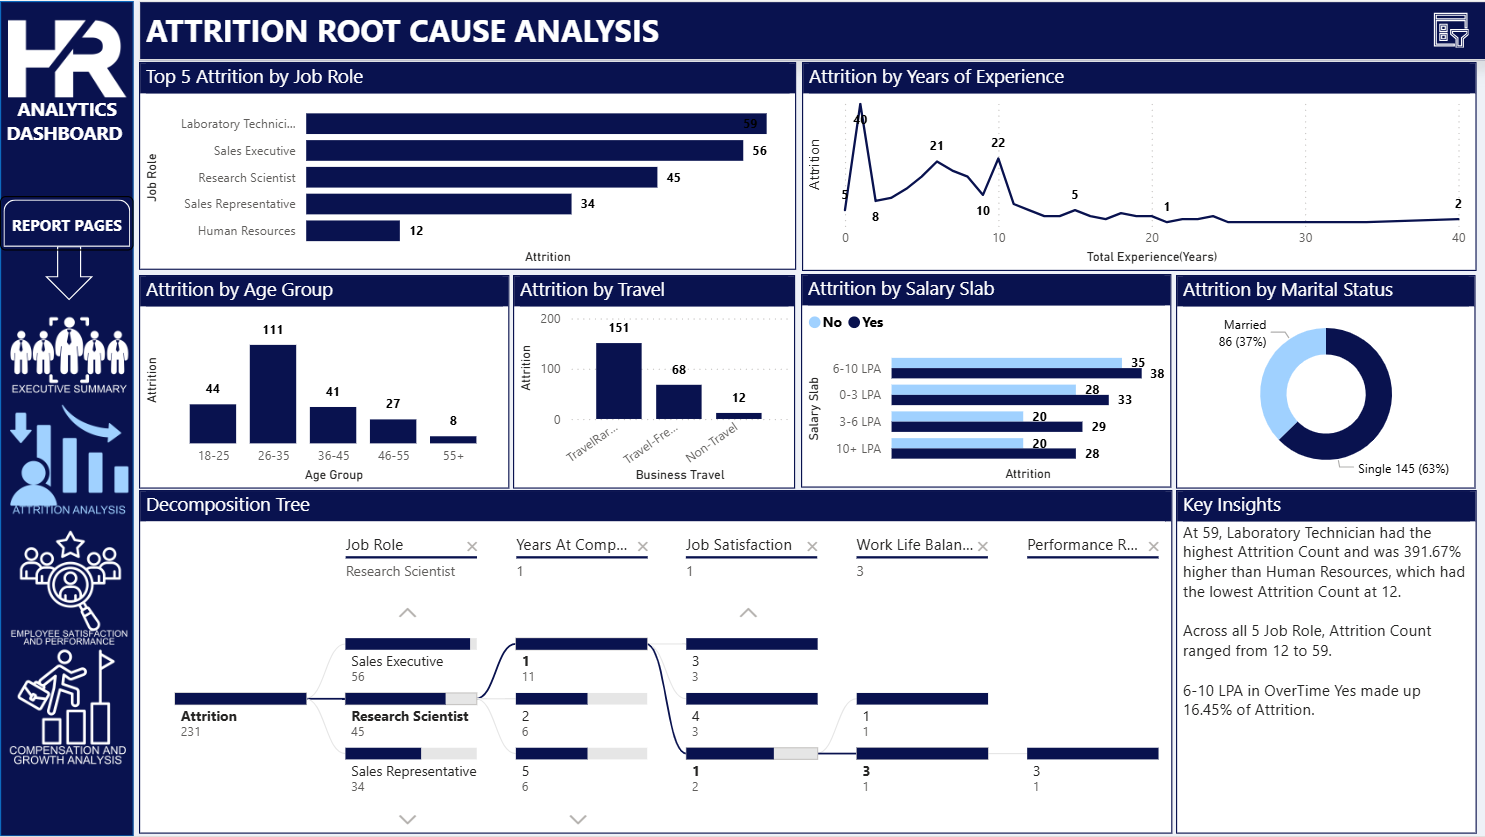

This screenshot's page, from the dashboard's own definition file:
{"tool":"powerbi","page":{"name":"Attrition Analysis","canvas":[1280,720],"ordinal":1},"visuals":[{"type":"group","id":"g1","title":"Page Navigation","box":[0,0,115.2,720.5],"z":0},{"type":"shape","box":[0,0,115.2,720.5],"z":0,"group":"g1"},{"type":"textbox","title":"AA Header","box":[119.4,0,1160.6,50.9],"z":1000},{"type":"actionButton","title":"Slicers button","box":[1230,5.5,41.8,39.1],"z":2000},{"type":"textbox","box":[0,76.8,115.2,58.1],"z":2000,"group":"g1"},{"type":"image","box":[7.3,553.3,102.8,111.1],"z":2125,"group":"g1"},{"type":"shape","box":[38.4,210.7,41.5,46.7],"z":2250,"group":"g1"},{"type":"image","box":[8.3,342.6,101.7,111.1],"z":2312,"group":"g1"},{"type":"image","box":[7.3,0,101.7,111.1],"z":2375,"group":"g1"},{"type":"image","box":[8.3,451.6,101.7,111.1],"z":2406,"group":"g1"},{"type":"image","box":[8.3,249.1,101.7,111.1],"z":2437,"group":"g1"},{"type":"shape","box":[0,168.2,115.2,46.7],"z":2500,"group":"g1"},{"type":"clusteredBarChart","title":"Top 5 Attrition by Job Role","fields":{"Category":["HR_Analytics.JobRole"],"Y":["Measure.Attrition Count"]},"box":[119.7,52.9,566.2,179.1],"z":3000},{"type":"clusteredColumnChart","title":"Attrition by Travel","fields":{"Category":["HR_Analytics.BusinessTravel"],"Y":["Measure.Attrition Count"]},"box":[442.2,235.7,242.9,184],"z":4000},{"type":"clusteredBarChart","title":"Attrition by Salary Slab","fields":{"Category":["HR_Analytics.SalarySlab"],"Y":["Measure.Attrition Count"],"Series":["HR_Analytics.OverTime"]},"box":[690.1,235.1,319,184],"z":5000},{"type":"lineChart","title":"Attrition by Years of Experience","fields":{"Category":["HR_Analytics.TotalExperience(Years)"],"Y":["Measure.Attrition"]},"box":[690.3,52.9,581.3,179.6],"z":6000},{"type":"clusteredColumnChart","fields":{"Category":["HR_Analytics.AgeGroup"],"Y":["Measure.Attrition Count"]},"box":[119.4,235.7,318.7,184],"z":7000},{"type":"donutChart","fields":{"Y":["Measure.Attrition Count"],"Category":["HR_Analytics.MaritalStatus"]},"box":[1013.2,235.7,258.5,184],"z":8000},{"type":"textbox","title":"Key Insights","box":[1013.2,421.2,258.7,296.5],"z":9000},{"type":"decompositionTreeVisual","title":"Decomposition Tree","fields":{"ExplainBy":["HR_Analytics.JobRole","HR_Analytics.YearsatCompany","HR_Analytics.JobSatisfaction","HR_Analytics.WorkLifeBalance","HR_Analytics.PerformanceRating"],"Analyze":["Measure.Attrition Count"]},"box":[119.4,421.4,889.7,295.9],"z":11000}]}

Visuals, with their boxes in screenshot pixels (x1, y1, x2, y2), scaled from the page's 1280x720 canvas onto the 1485x837 screenshot:
"Page Navigation" group: [x1=0, y1=0, x2=134, y2=836]
shape: [x1=0, y1=0, x2=134, y2=836]
"AA Header" textbox: [x1=139, y1=0, x2=1484, y2=59]
"Slicers button" actionButton: [x1=1427, y1=6, x2=1475, y2=52]
textbox: [x1=0, y1=89, x2=134, y2=157]
image: [x1=8, y1=643, x2=128, y2=772]
shape: [x1=45, y1=245, x2=93, y2=299]
image: [x1=10, y1=398, x2=128, y2=527]
image: [x1=8, y1=0, x2=126, y2=129]
image: [x1=10, y1=525, x2=128, y2=654]
image: [x1=10, y1=290, x2=128, y2=419]
shape: [x1=0, y1=196, x2=134, y2=250]
"Top 5 Attrition by Job Role" clusteredBarChart: [x1=139, y1=61, x2=796, y2=270]
"Attrition by Travel" clusteredColumnChart: [x1=513, y1=274, x2=795, y2=488]
"Attrition by Salary Slab" clusteredBarChart: [x1=801, y1=273, x2=1171, y2=487]
"Attrition by Years of Experience" lineChart: [x1=801, y1=61, x2=1475, y2=270]
clusteredColumnChart - HR_Analytics.AgeGroup x Measure.Attrition Count: [x1=139, y1=274, x2=508, y2=488]
donutChart - Measure.Attrition Count x HR_Analytics.MaritalStatus: [x1=1175, y1=274, x2=1475, y2=488]
"Key Insights" textbox: [x1=1175, y1=490, x2=1476, y2=834]
"Decomposition Tree" decompositionTreeVisual: [x1=139, y1=490, x2=1171, y2=834]
